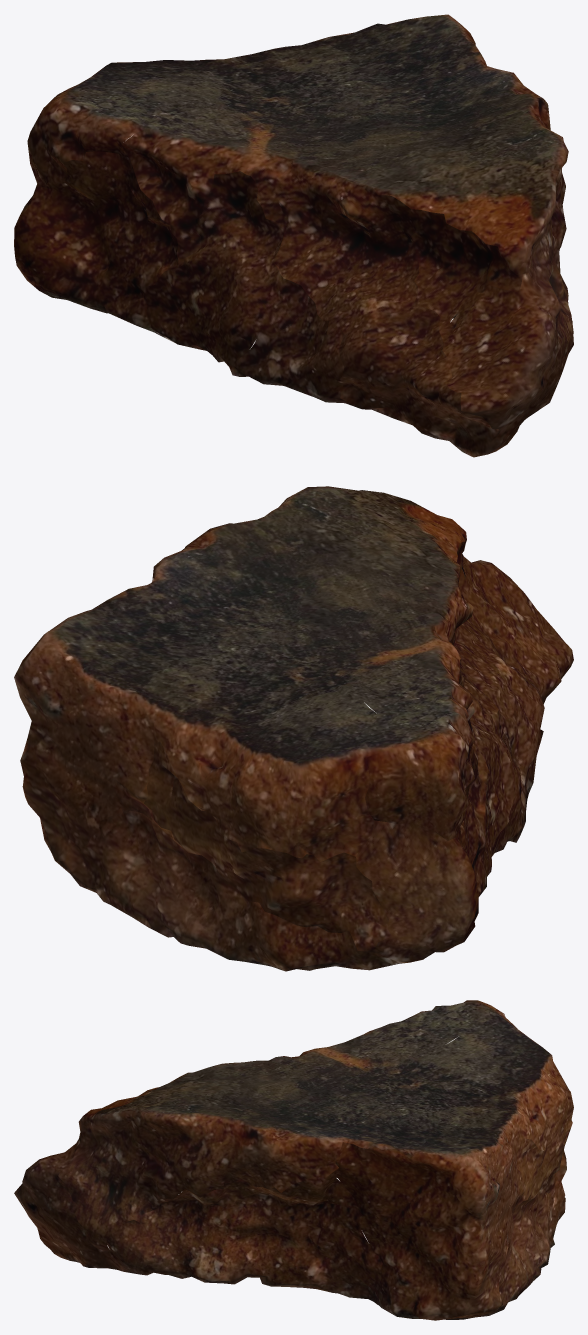
File: piece11_10000_resHi.glb
3 views of the same model, one above another, from view 1: azimuth 30°, elevation 25°; view 2: azimuth 150°, elevation 25°; view 3: azimuth 270°, elevation 25° (orthographic). The views are drawn at different scales.
Size of the model in its own units: 0.0438 by 0.023 by 0.058.
1 material, 1 textured.
